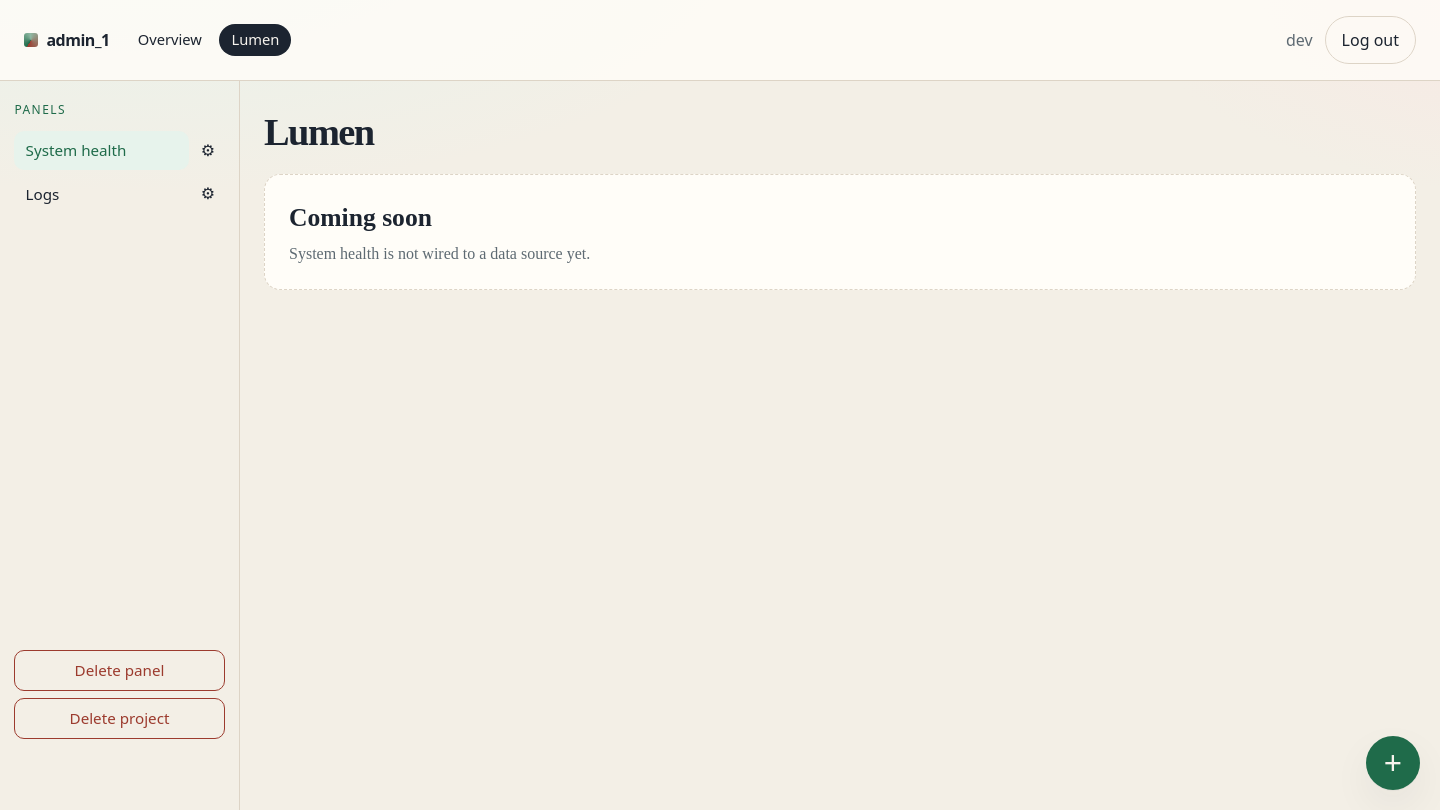
Scenario: projects › lists selected panels in the rail
Expected: the navigation bar named "Panels" shows "System health", x1=14 y1=131 x2=189 y2=170
Expected: the heading "Coming soon" is shown, x1=289 y1=203 x2=432 y2=232
Step 1. Click the button "Logs" → click(102, 194), box x1=14 y1=174 x2=189 y2=214
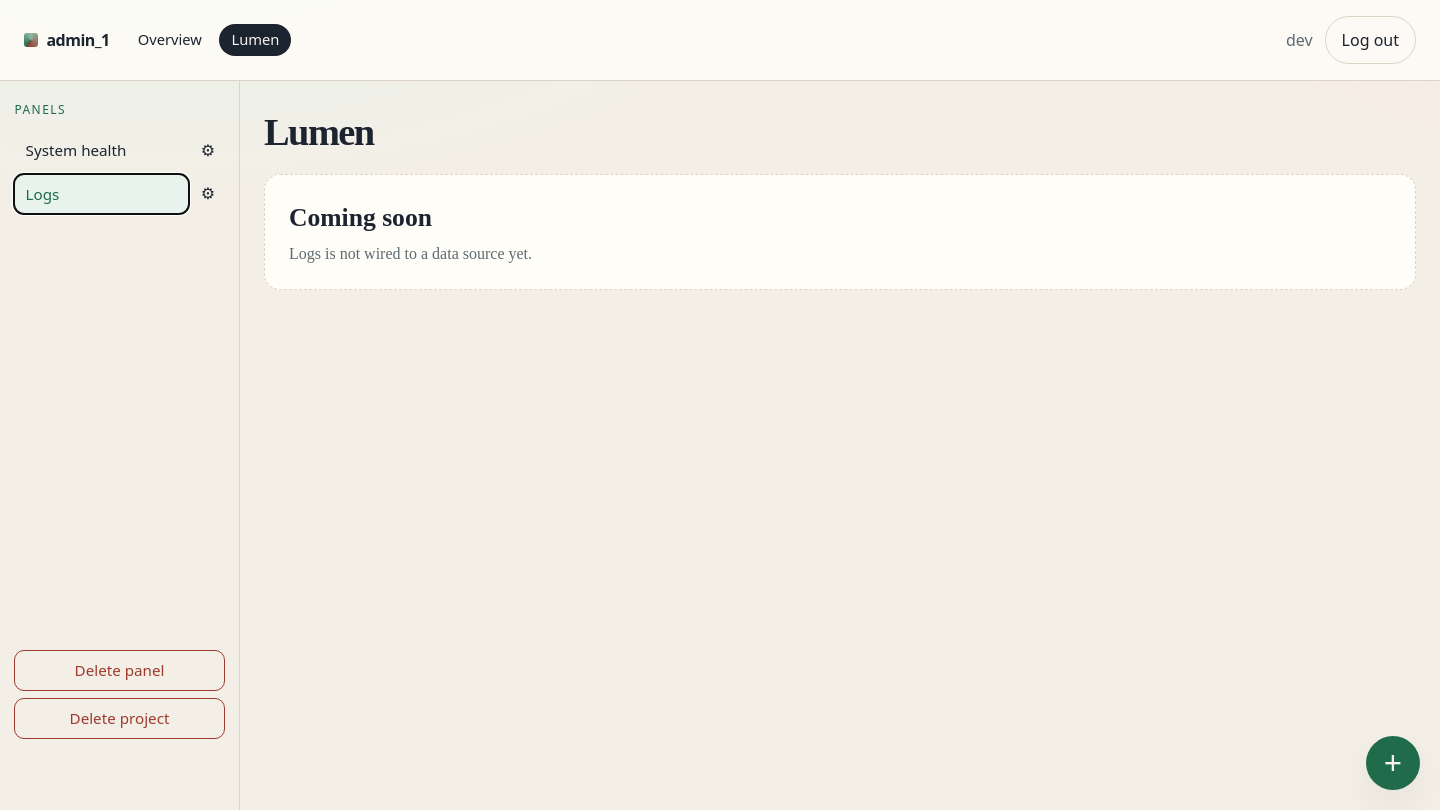
Expected: the heading "Coming soon" is shown, x1=289 y1=203 x2=432 y2=232
Now the text "Logs is not wired to a data source yet." is shown, box x1=289 y1=245 x2=532 y2=262
